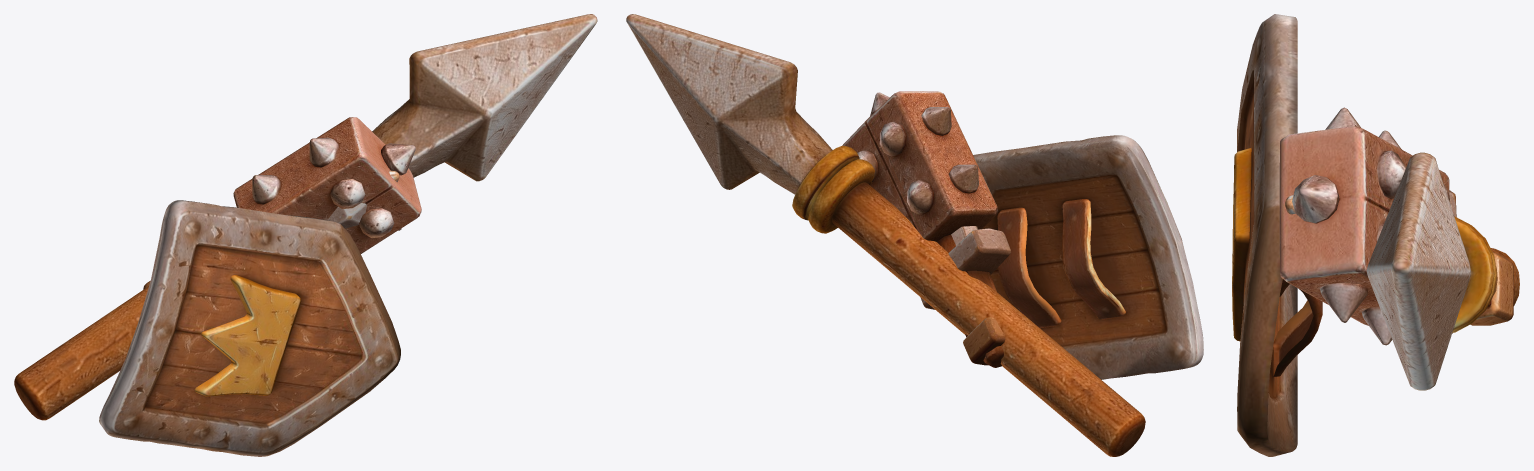
File: weapons.glb
The picture shows the model from 3 angles, left to right: view 1: azimuth 30°, elevation 25°; view 2: azimuth 150°, elevation 25°; view 3: azimuth 270°, elevation 25°; orthographic projection. The views are drawn at different scales.
Parts seen in each view (by area): view 1: shield, spear, mace, sword; view 2: spear, shield, mace, sword; view 3: shield, mace, spear, sword.
Boxes of the visible parts, x1,y1,x2,y2 form: shield: (99, 200, 400, 456); spear: (14, 14, 597, 420); mace: (233, 117, 421, 253); sword: (143, 170, 399, 289); spear: (626, 14, 1145, 456); shield: (973, 135, 1203, 379); mace: (842, 91, 1003, 367); sword: (920, 226, 1011, 365); shield: (1232, 14, 1322, 456); mace: (1279, 107, 1449, 345); spear: (1366, 152, 1519, 390); sword: (1285, 190, 1514, 333).
Size of the model in its own units: 0.7709 by 0.4282 by 0.2527.
Materials: 4 (4 with a texture image).
